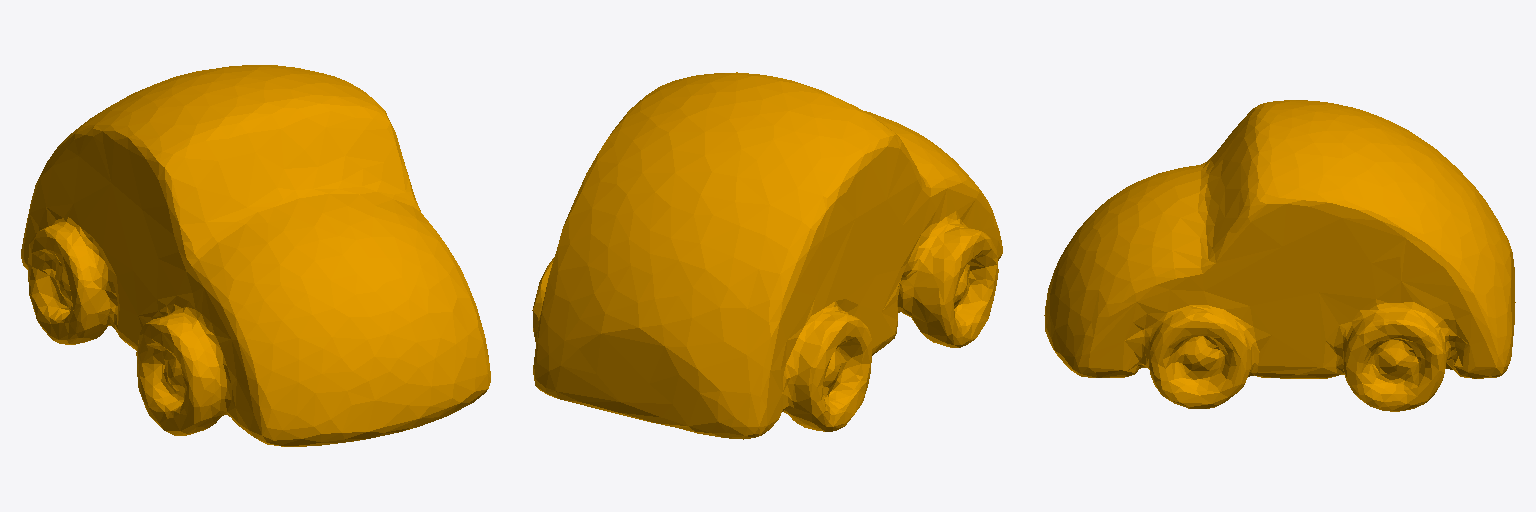
robot.urdf — 222ski37:
<?xml version='1.0'?>

<robot name="222ski37">
    <static>false</static>
    <link name="link">
        <inertial>
            <mass value="0.07939243379397917"/>
            <inertia ixx="8.569532831345194e-05" ixy="-4.891505810322464e-07" ixz="1.2843506456481922e-07"
                     iyy="4.228668559934879e-05" iyz="-3.602292585741835e-06" izz="9.315332632025595e-05"/>
        </inertial>
        <collision name="collision">
            <geometry>
                <mesh filename="package://miscnet/train/222ski37/collision_model_vhacd.obj"/>
            </geometry>
        </collision>
        <visual name="visual">
            <geometry>
                <mesh filename="package://miscnet/train/222ski37/visual_model.obj"/>
            </geometry>
        </visual>
    </link>
</robot>

--- Facts derived from the render (not from the file) ---
3 views of the same robot in one strip: view 1: azimuth 30°, elevation 25°; view 2: azimuth 150°, elevation 25°; view 3: azimuth 270°, elevation 25° (orthographic).
Model 222ski37 with 1 links and 0 joints (none), rooted at link, posed every joint at zero.
Visible links, largest first — view 1: link; view 2: link; view 3: link.
Link boxes in pixels (box(x1,y1,x2,y2)): link: box(21, 65, 490, 446); link: box(532, 72, 1002, 439); link: box(1044, 100, 1515, 411).
Bounding box of the posed robot: 0.0782 × 0.1217 × 0.065 m (x, y, z).
1 mesh visuals loaded from 1 distinct referenced files (1 OBJ).
